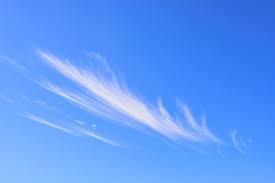Cirrus: (12, 35, 259, 164)
